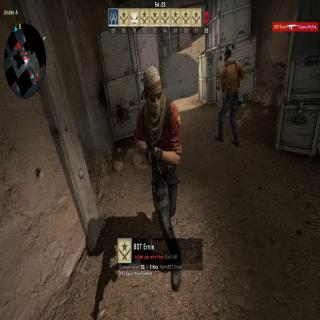T-Body: (136, 63, 188, 290), (216, 51, 243, 147)
T-Head: (143, 67, 162, 111), (224, 48, 232, 64)
